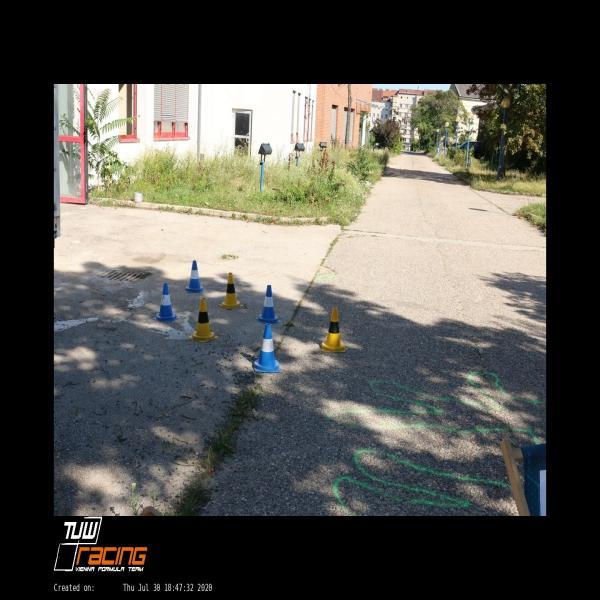blue_cone: (253, 324, 280, 373), (152, 283, 180, 322), (255, 284, 280, 324), (185, 260, 204, 294)
yellow_cone: (189, 297, 218, 342), (321, 307, 345, 353), (218, 272, 244, 310)
